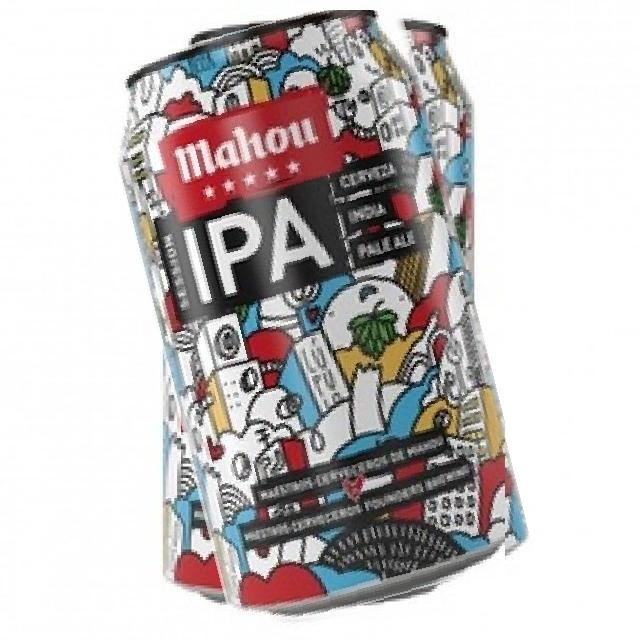recyclable: (127, 10, 505, 631)
